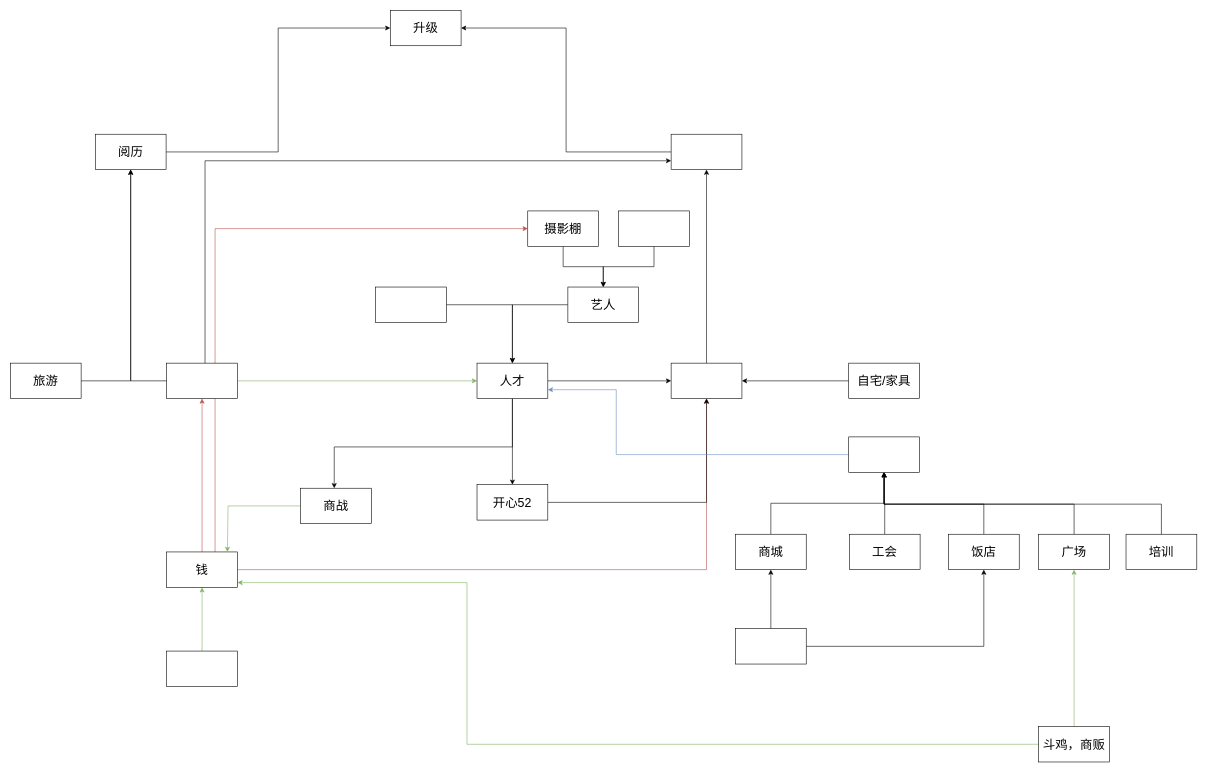
Some shapes in this 1207 by 772 pixel diagram are drawn without their labels. Here are the shapes that lost their labels. From the top down, the centre of each, then its label:
At point 706,152: "收入".
At point 653,228: "推广".
At point 410,304: "载具".
At point 201,381: "关卡".
At point 706,381: "店铺".
At point 884,454: "衣服".
At point 770,646: "钻石".
At point 201,668: "狂飙导师".
